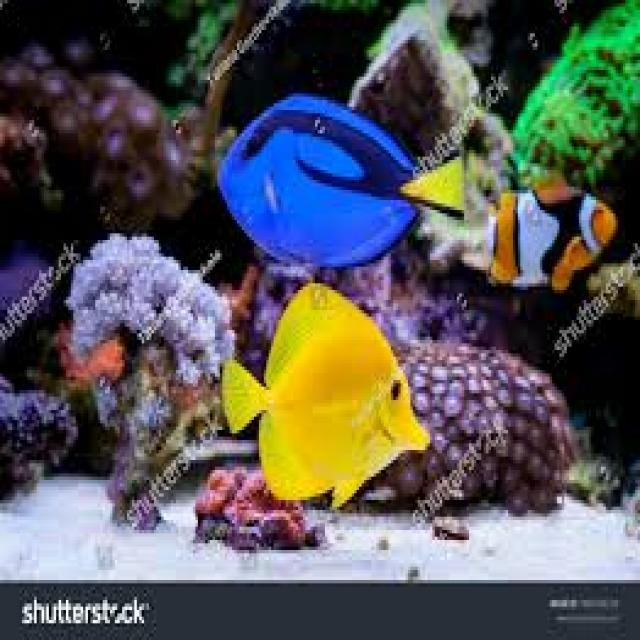BlueTang: (205, 90, 479, 282)
